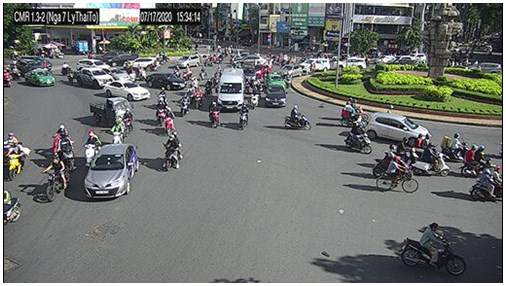xe_hoi: (83, 143, 139, 200), (366, 112, 433, 144), (104, 81, 153, 101), (146, 73, 187, 89), (25, 70, 57, 87), (123, 57, 159, 72), (264, 85, 286, 107), (467, 62, 502, 74), (77, 59, 111, 71), (332, 58, 366, 70), (234, 55, 267, 67), (300, 58, 330, 71), (266, 72, 286, 91), (276, 64, 303, 78), (175, 55, 200, 67), (391, 56, 415, 67)
xe_may: (401, 222, 465, 275), (42, 154, 70, 202), (413, 142, 450, 178), (373, 145, 413, 178), (468, 166, 503, 203), (463, 143, 499, 177), (6, 141, 31, 180), (442, 132, 473, 162), (345, 121, 370, 155), (162, 133, 183, 172), (394, 138, 420, 167), (285, 104, 311, 130), (415, 134, 441, 160), (53, 125, 72, 160), (341, 100, 366, 126), (85, 129, 100, 169), (59, 135, 76, 170), (111, 118, 125, 144), (164, 106, 176, 135), (123, 109, 134, 137), (209, 100, 219, 128), (157, 98, 166, 126), (239, 103, 248, 131), (250, 86, 260, 110), (181, 93, 190, 117), (157, 87, 167, 108), (195, 85, 203, 110), (182, 64, 193, 81), (3, 69, 11, 90), (11, 65, 20, 82), (66, 67, 74, 84), (62, 62, 71, 76), (206, 77, 212, 95)
xe_tai: (91, 97, 132, 125)
